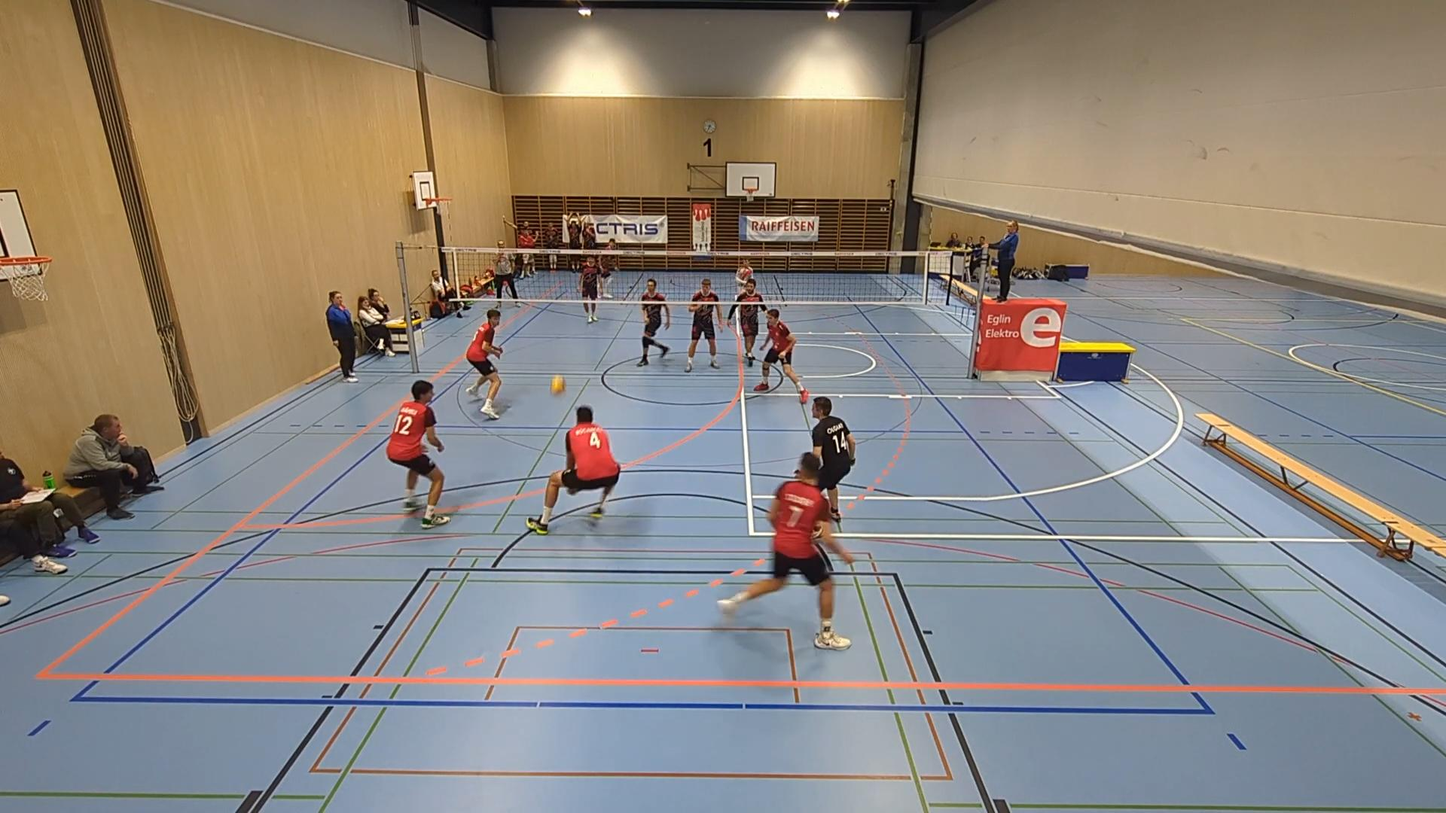Player: (718, 453, 853, 649), (386, 380, 449, 528), (812, 397, 856, 522), (754, 309, 808, 403), (465, 309, 502, 419), (685, 278, 721, 371), (728, 279, 764, 366), (637, 279, 670, 366), (579, 256, 601, 323), (599, 253, 618, 298), (735, 258, 753, 294)
Receive: (531, 403, 627, 536)
ball: (551, 376, 565, 391)
